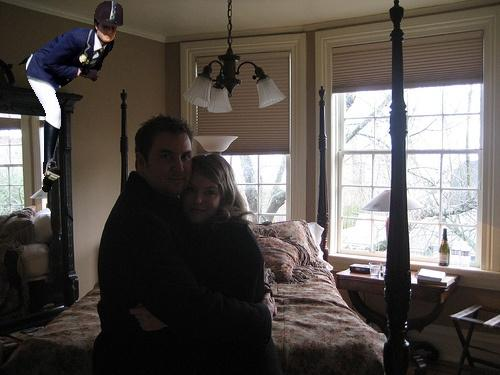tampered: (19, 2, 123, 193)
